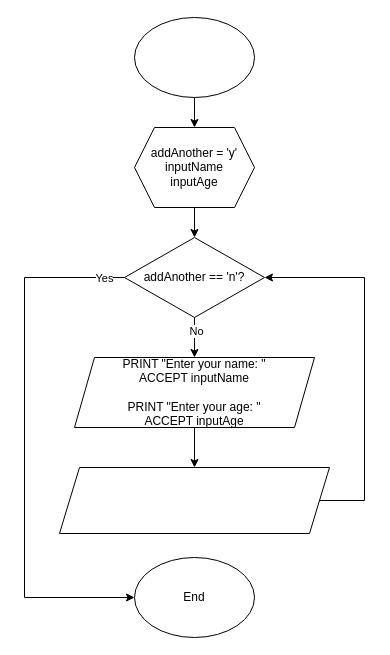
Some shapes in this 390 by 655 pixel diagram are drawn without their labels. The centre of each missing label's shape, as x and y in pixels:
PRINT "Do you want to add another? (y/n): " ACCEPT addAnother: point 194,500
START: point 194,57
